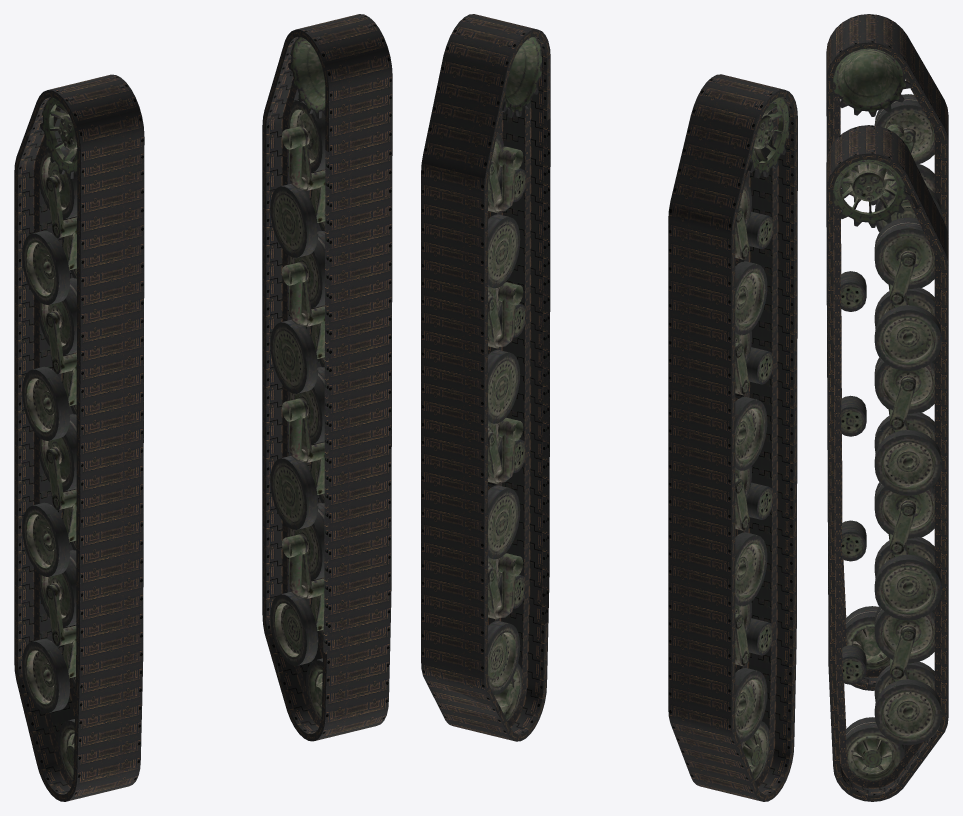
File: Chassis.glb
3 renders of one model, left to right at view 1: azimuth 30°, elevation 25°; view 2: azimuth 150°, elevation 25°; view 3: azimuth 270°, elevation 25°, orthographic. The views are drawn at different scales.
Parts seen in each view (by area): view 1: set_0_group_0, set_1_group_0, set_3_group_0, set_2_group_0; view 2: set_0_group_0, set_1_group_0, set_3_group_0, set_2_group_0; view 3: set_3_group_0, set_1_group_0, set_2_group_0, set_0_group_0.
Boxes of the visible parts, x1,y1,x2,y2 form: set_0_group_0: (14, 74, 144, 801); set_1_group_0: (262, 14, 392, 741); set_3_group_0: (270, 16, 385, 719); set_2_group_0: (22, 77, 136, 779); set_0_group_0: (668, 74, 797, 801); set_1_group_0: (421, 14, 550, 741); set_3_group_0: (457, 15, 541, 720); set_2_group_0: (704, 75, 789, 780); set_3_group_0: (833, 127, 941, 781); set_1_group_0: (826, 125, 948, 801); set_2_group_0: (833, 16, 941, 670); set_0_group_0: (826, 14, 948, 690).
Bounding box in the file's own units: 3.19 × 6.92 × 1.18.
4 materials, 4 textured.
